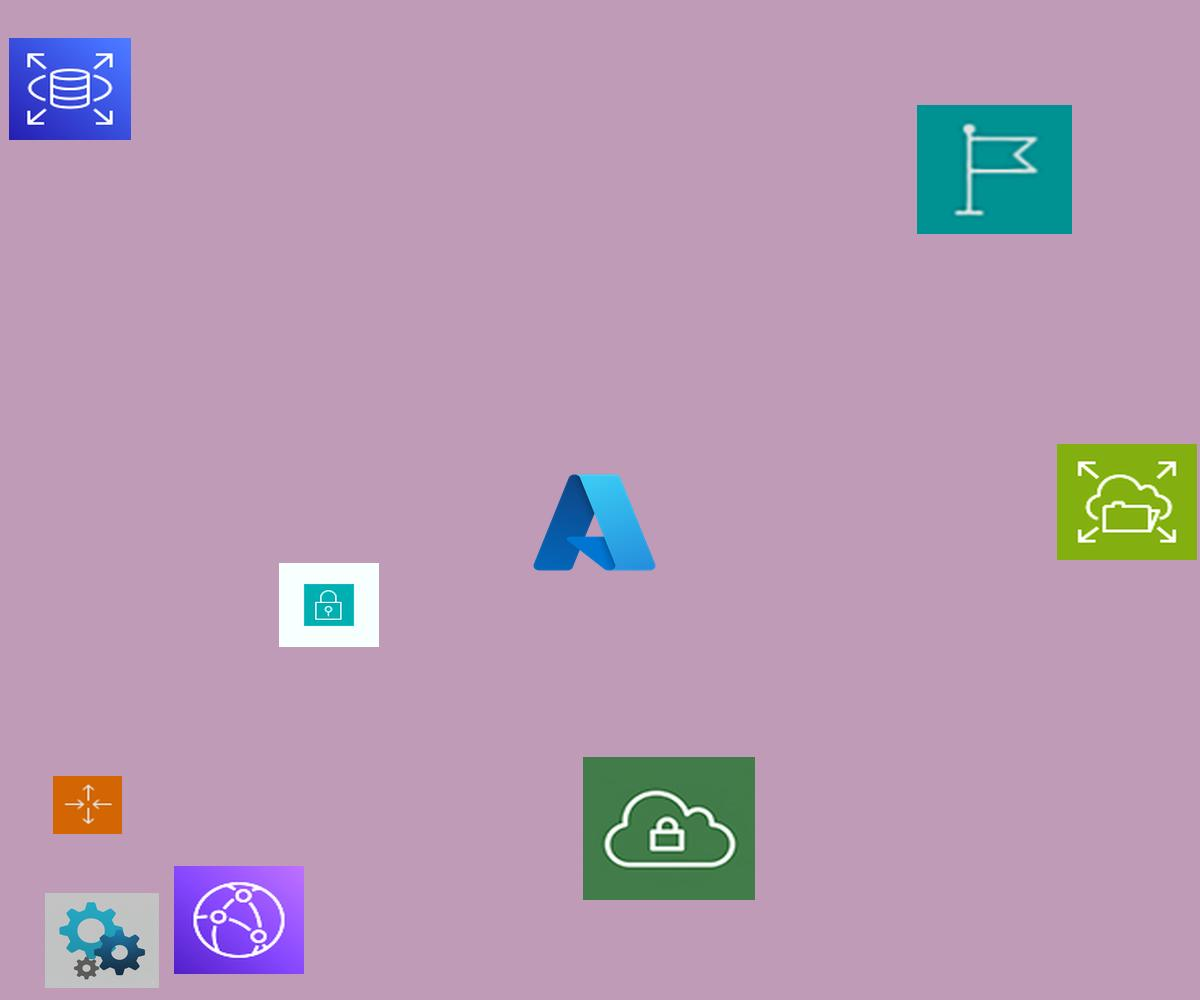AWS-CloudFront: (174, 866, 304, 974)
AWS-EFS: (1057, 444, 1197, 560)
AWS-Private-subnet: (279, 563, 379, 647)
AWS-Private_vpc: (583, 757, 755, 900)
AWS-RDS: (9, 38, 131, 140)
AWS-Region: (917, 105, 1072, 234)
AWS-Scaling-group: (53, 776, 122, 834)
Azure_api: (45, 893, 159, 988)
Azure_services: (528, 467, 661, 578)
